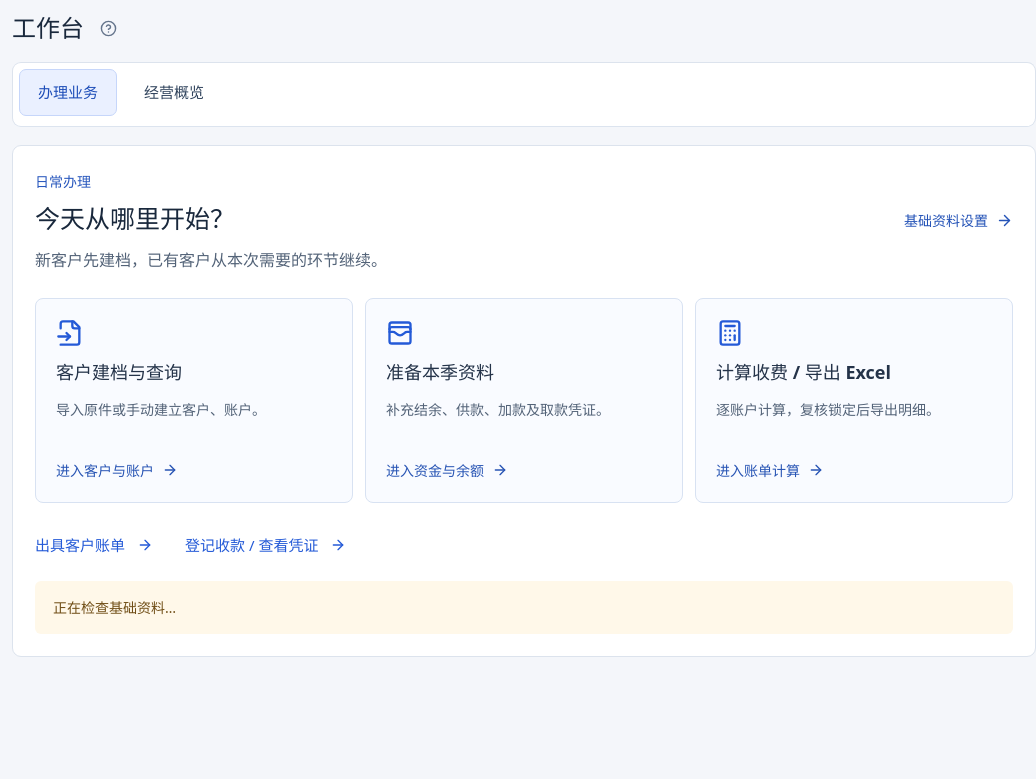
Test case: 年份从2000到2200连续完整排列，2026上下分别为2025和2027
The image size is (1036, 779).
Click the tab "经营概览" at (174, 92), box [125,69,223,116]
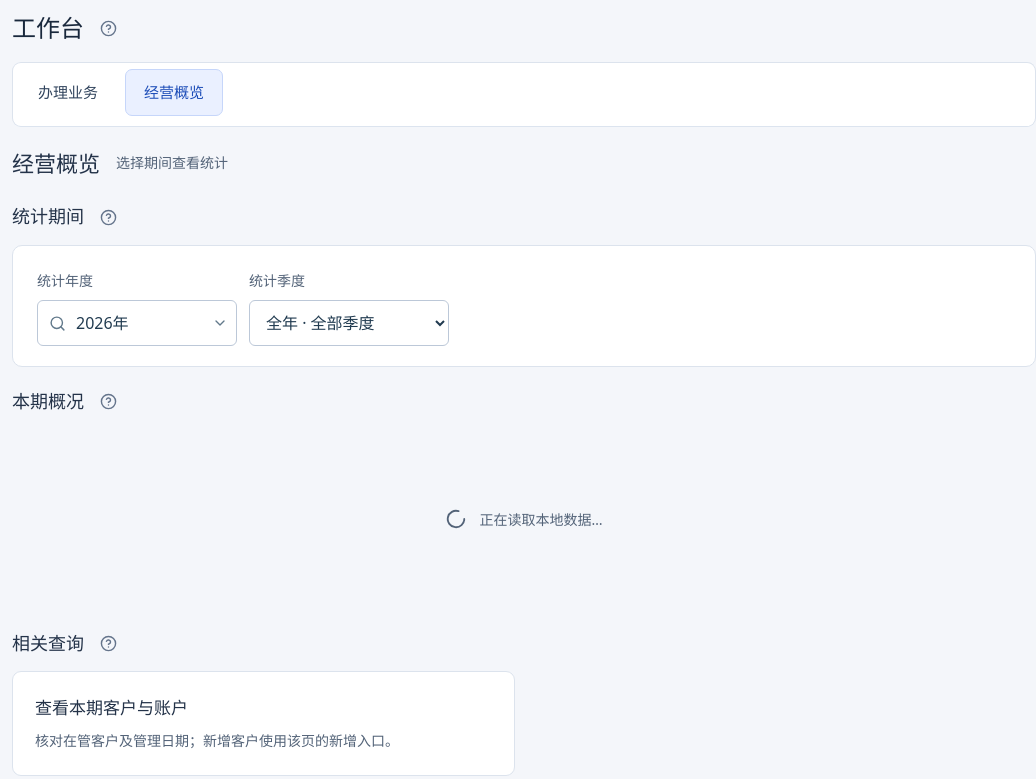
Focus the dropdown named "统计年度" at (137, 323), box [37,300,237,346]
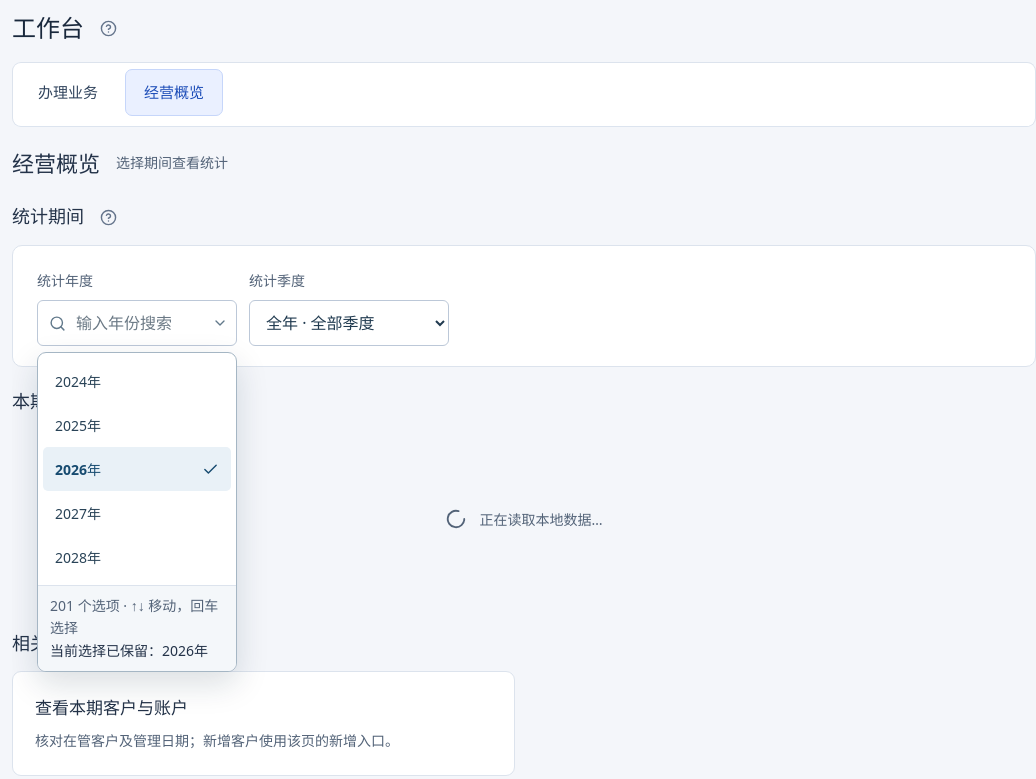
expect the option "2026年" is shown: met, box [43,447,231,491]
Press ArrowDown in the dropdown named "统计年度", box [37,300,237,346]
Press Enter in the dropdown named "统计年度", box [37,300,237,346]
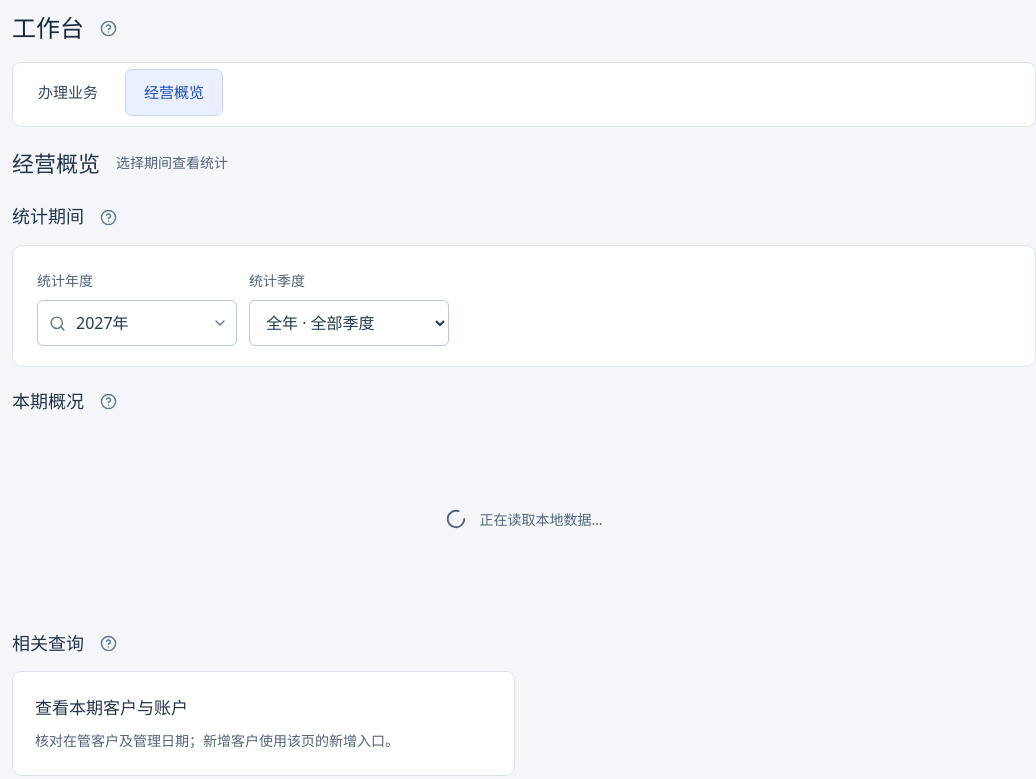
expect the dropdown named "统计年度" holds "2027年": met
Click the dropdown named "统计年度" at (137, 323), box [37,300,237,346]
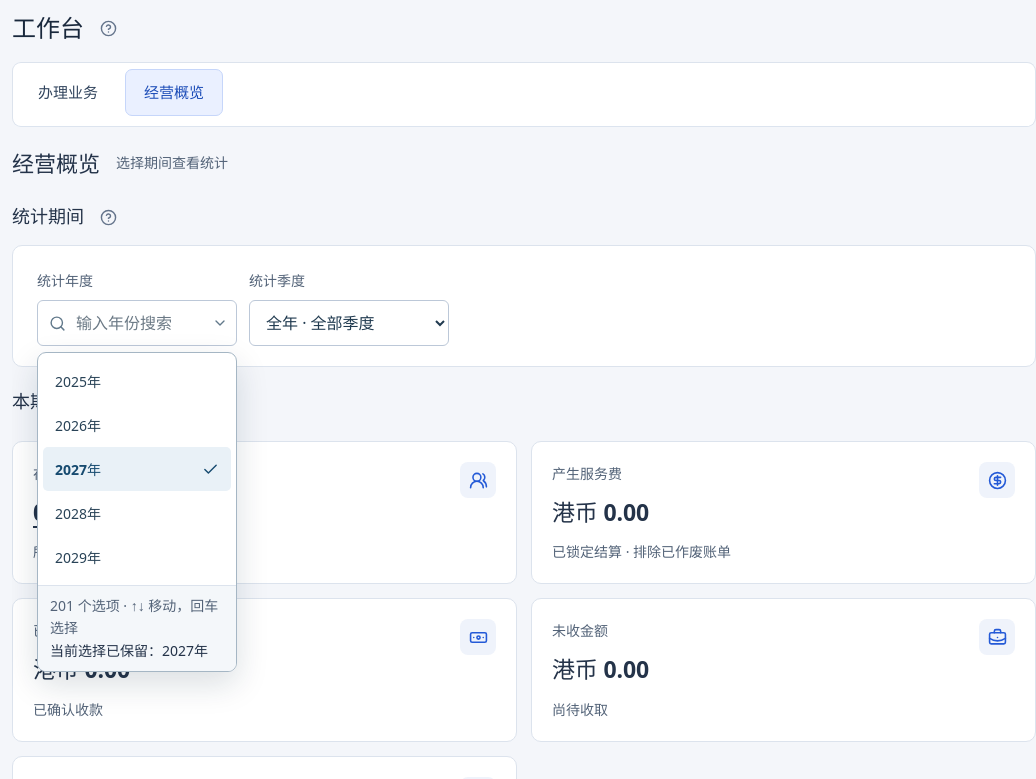
Press ArrowUp in the dropdown named "统计年度", box [37,300,237,346]
Press ArrowUp in the dropdown named "统计年度", box [37,300,237,346]
Press Enter in the dropdown named "统计年度", box [37,300,237,346]
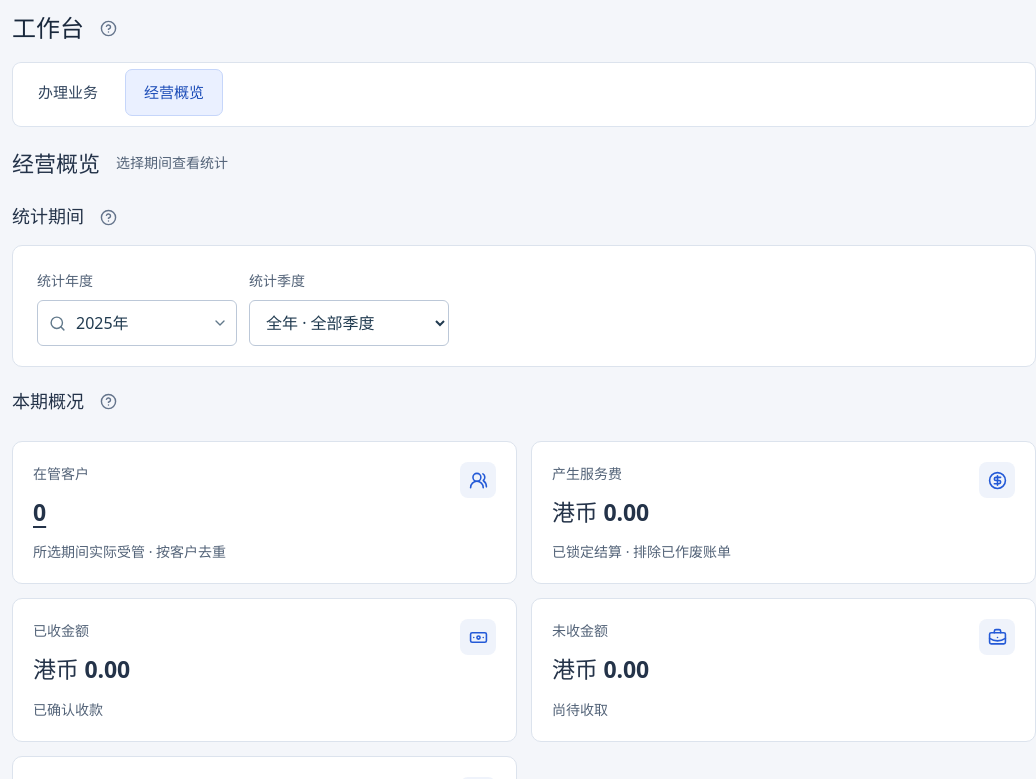
expect the dropdown named "统计年度" holds "2025年": met, box [37,300,237,346]
